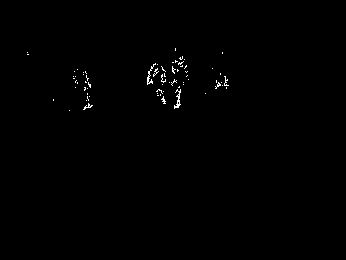person: (169, 52, 188, 110), (145, 61, 167, 108), (72, 65, 93, 110)
